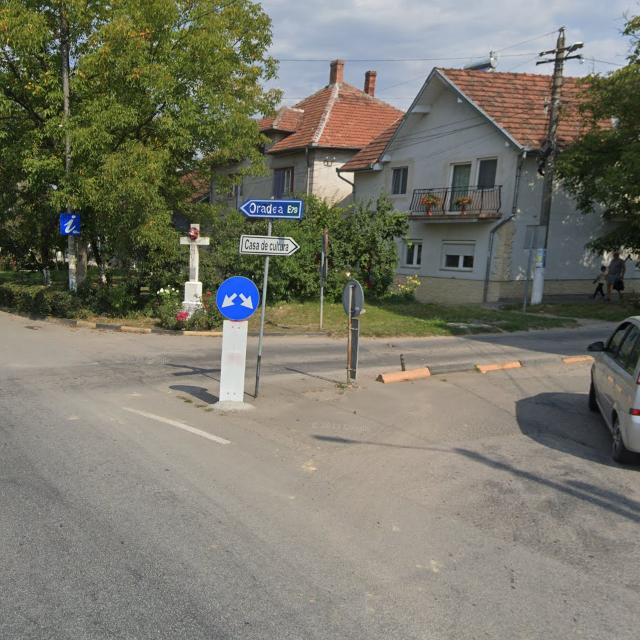mand_pass_left_right: (214, 275, 260, 320)
